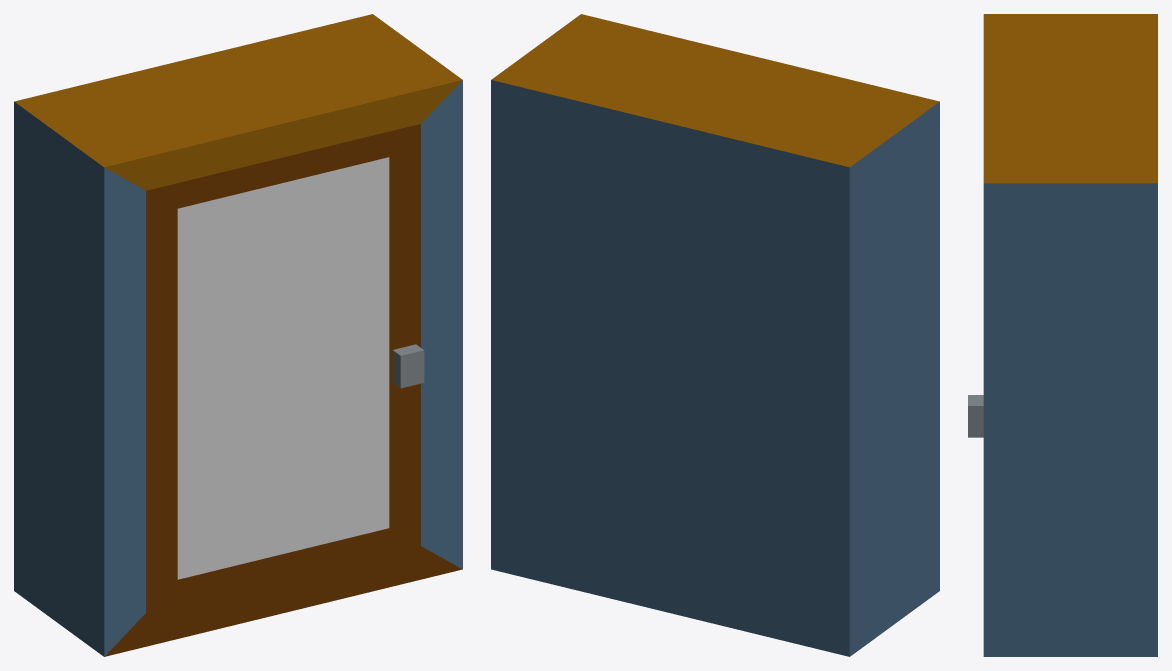
The model's file is medicine_cabinet.glb.
3 renders of one model, left to right at view 1: azimuth 30°, elevation 25°; view 2: azimuth 150°, elevation 25°; view 3: azimuth 270°, elevation 25°, orthographic. The views are drawn at different scales.
Parts seen in each view (by area): view 1: medicine_cabinet; view 2: medicine_cabinet; view 3: medicine_cabinet.
Boxes of the visible parts, bbox=[...] form: medicine_cabinet: bbox=[14, 14, 462, 656]; medicine_cabinet: bbox=[491, 14, 939, 656]; medicine_cabinet: bbox=[968, 14, 1157, 656].
Size of the model in its own units: 0.46 by 0.6 by 0.218.
